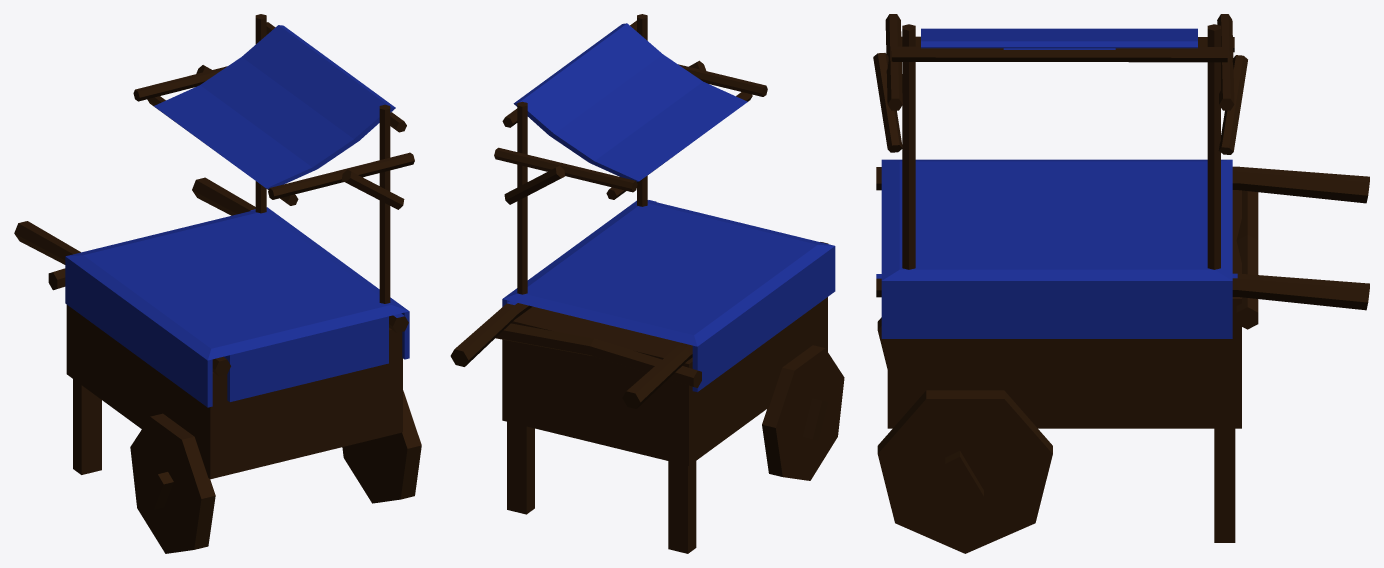
File: MarketStall05.fbx
The picture shows the model from 3 angles, left to right: view 1: azimuth 30°, elevation 25°; view 2: azimuth 150°, elevation 25°; view 3: azimuth 270°, elevation 25°; orthographic projection. The views are drawn at different scales.
Parts seen in each view (by area): view 1: Box007; view 2: Box007; view 3: Box007.
Part boxes in pixels (x1,y1,x2,y2): Box007: (14, 14, 421, 553); Box007: (450, 14, 844, 553); Box007: (873, 14, 1369, 553).
Bounding box in the file's own units: 120 × 197 × 173.
